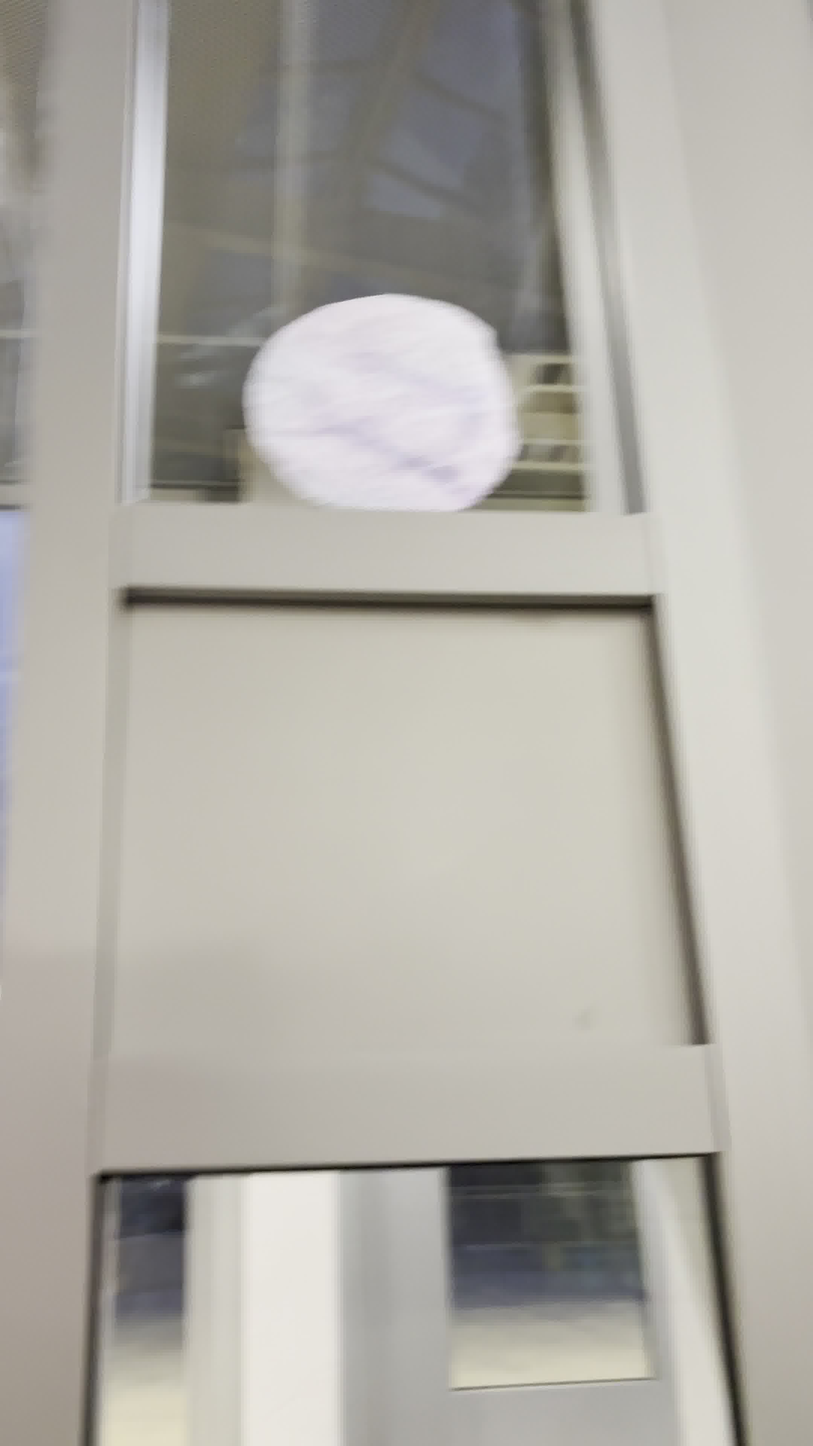Target: (237, 285, 525, 520)
